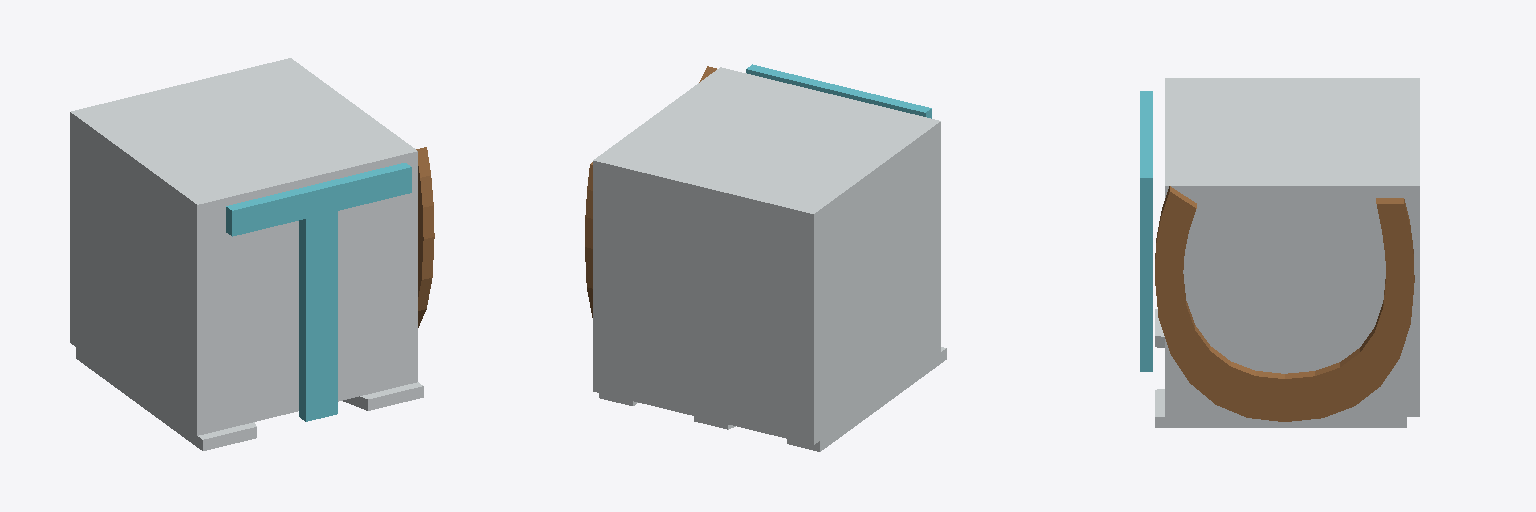
The model's file is tinker.obj.
3 renders of one model, left to right at view 1: azimuth 30°, elevation 25°; view 2: azimuth 150°, elevation 25°; view 3: azimuth 270°, elevation 25°, orthographic.
Parts seen in each view (by area): view 1: obj_0; view 2: obj_0; view 3: obj_0.
Boxes of the visible parts, x1,y1,x2,y2 form: obj_0: [70, 58, 434, 450]; obj_0: [585, 64, 946, 451]; obj_0: [1140, 78, 1419, 427].
Size of the model in its own units: 21 by 21 by 22.